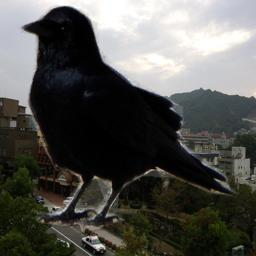Crow: (15, 3, 239, 228)
